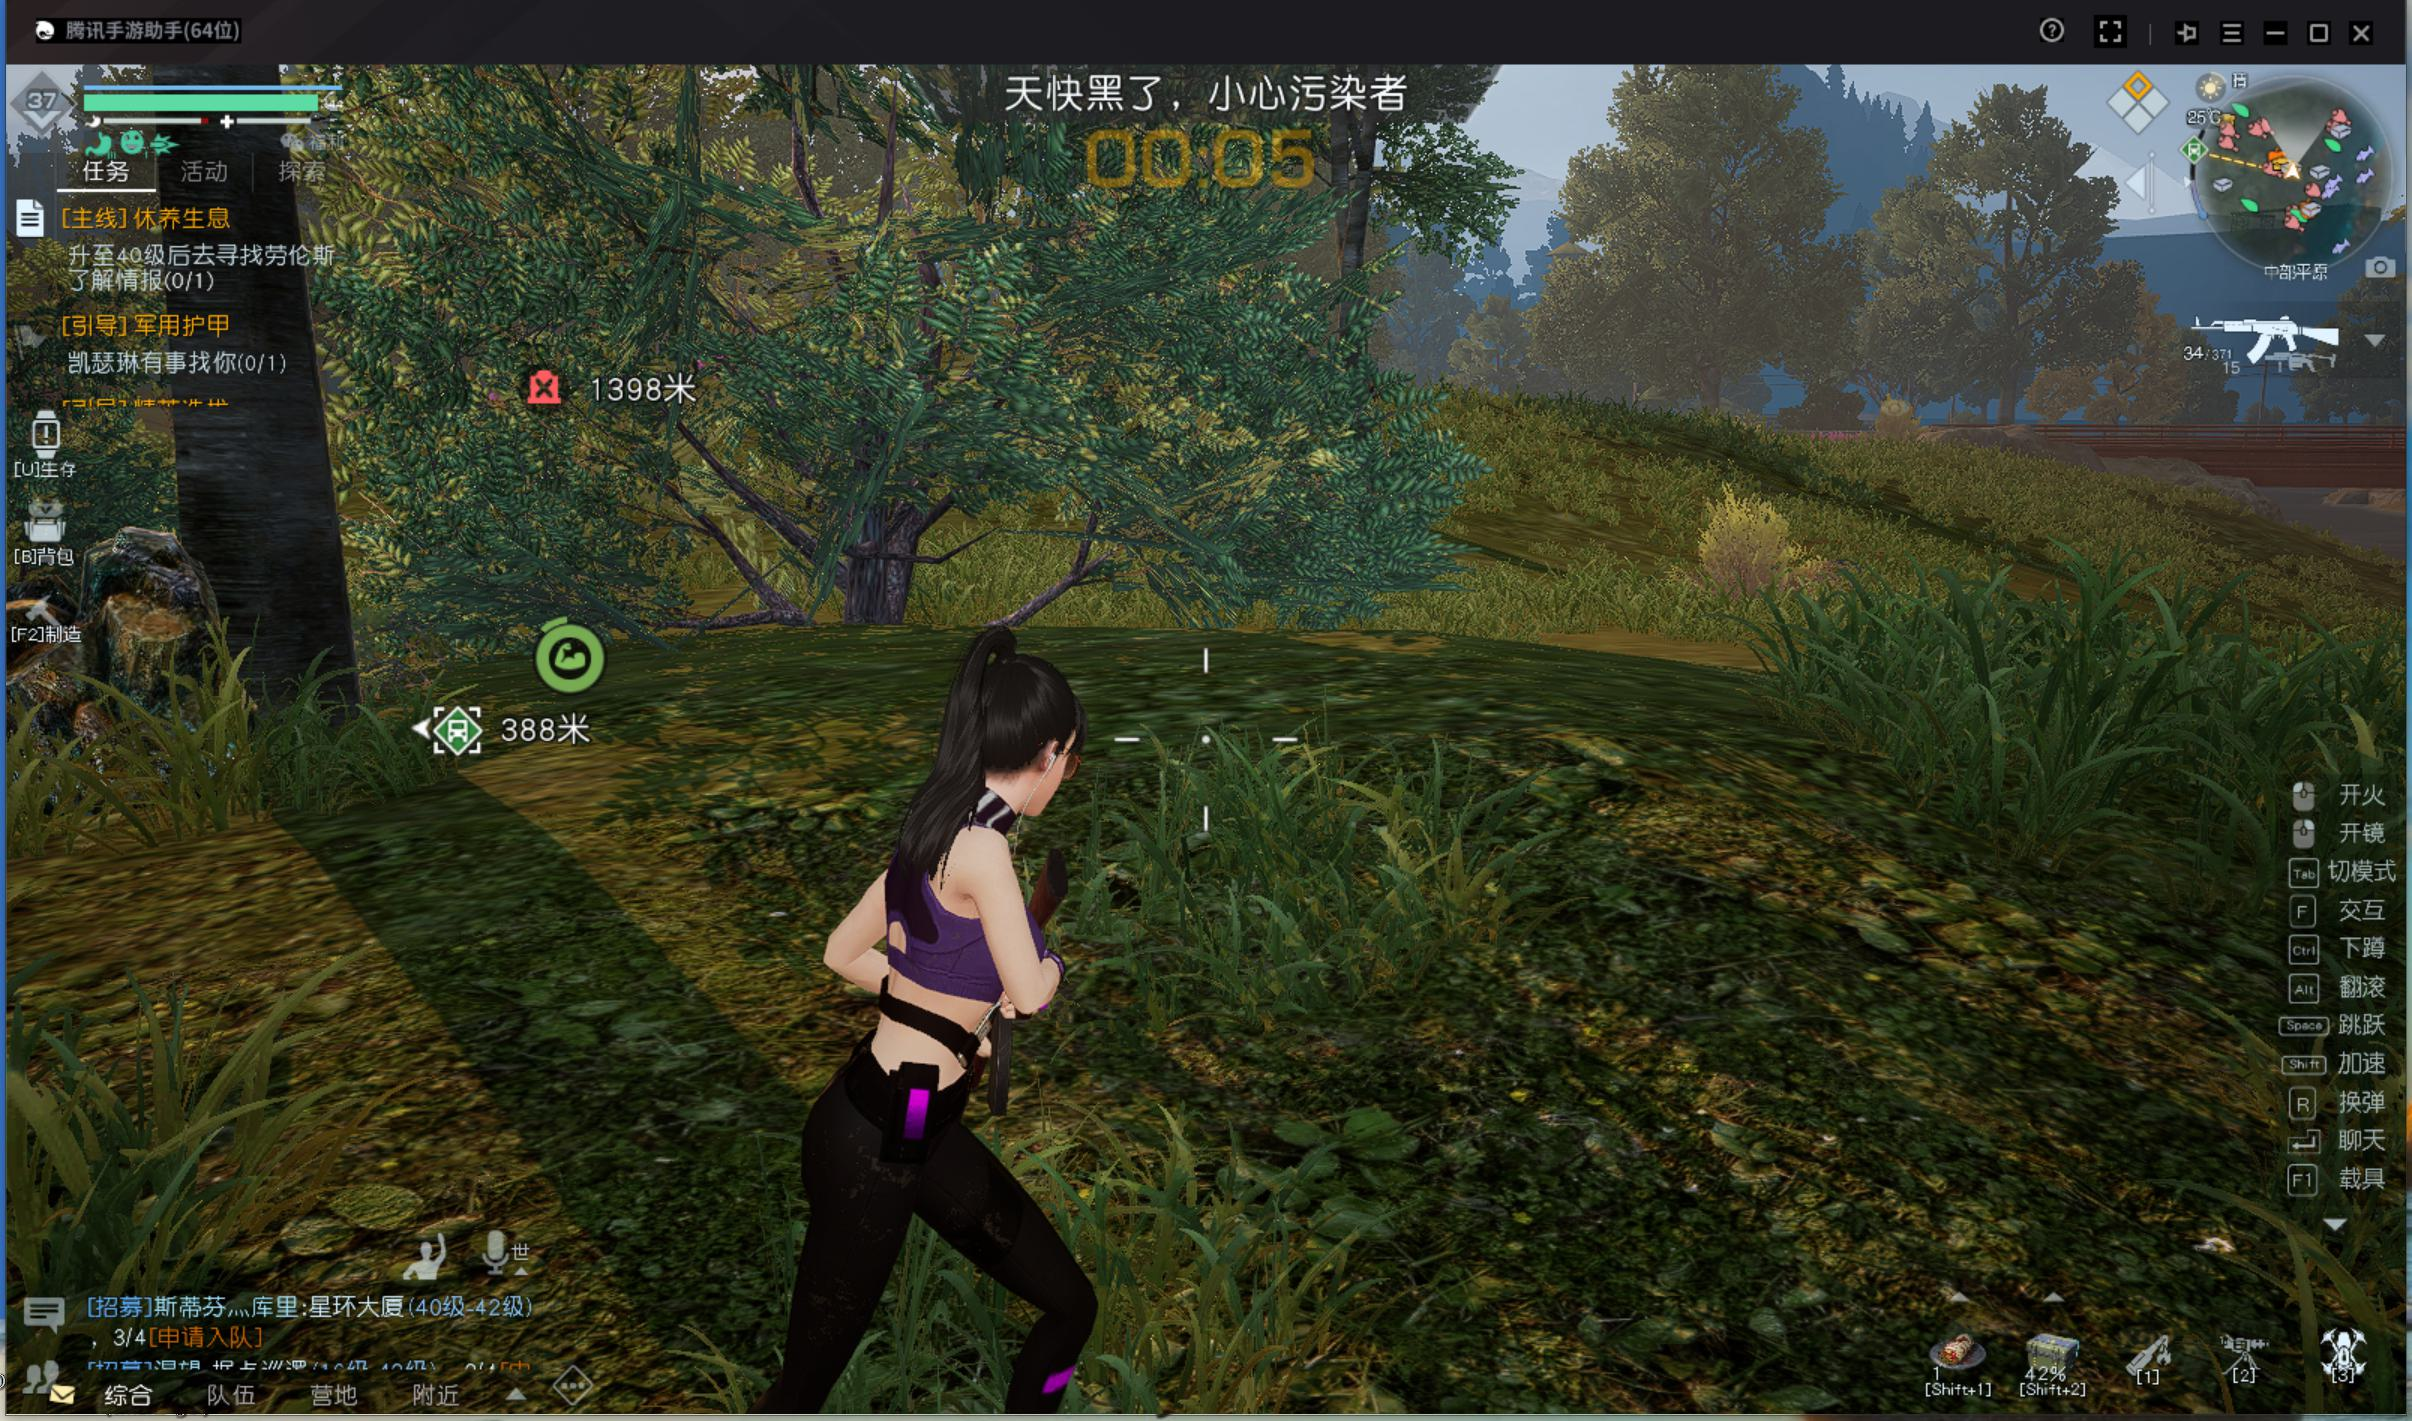stone: (20, 523, 237, 815)
tree: (152, 195, 381, 765)
